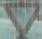Give way: (5, 2, 41, 37)
